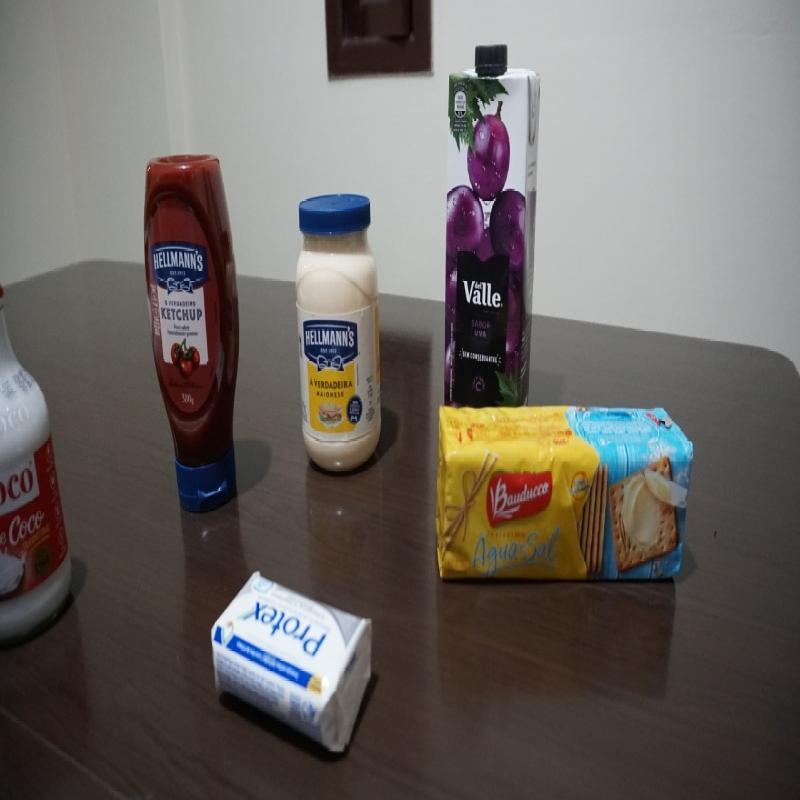Coconut Milk: (0, 282, 72, 650)
Cracker: (434, 403, 695, 590)
Ketchup: (143, 153, 245, 518)
Mayonnaise: (294, 189, 385, 479)
Soap: (211, 569, 376, 756)
